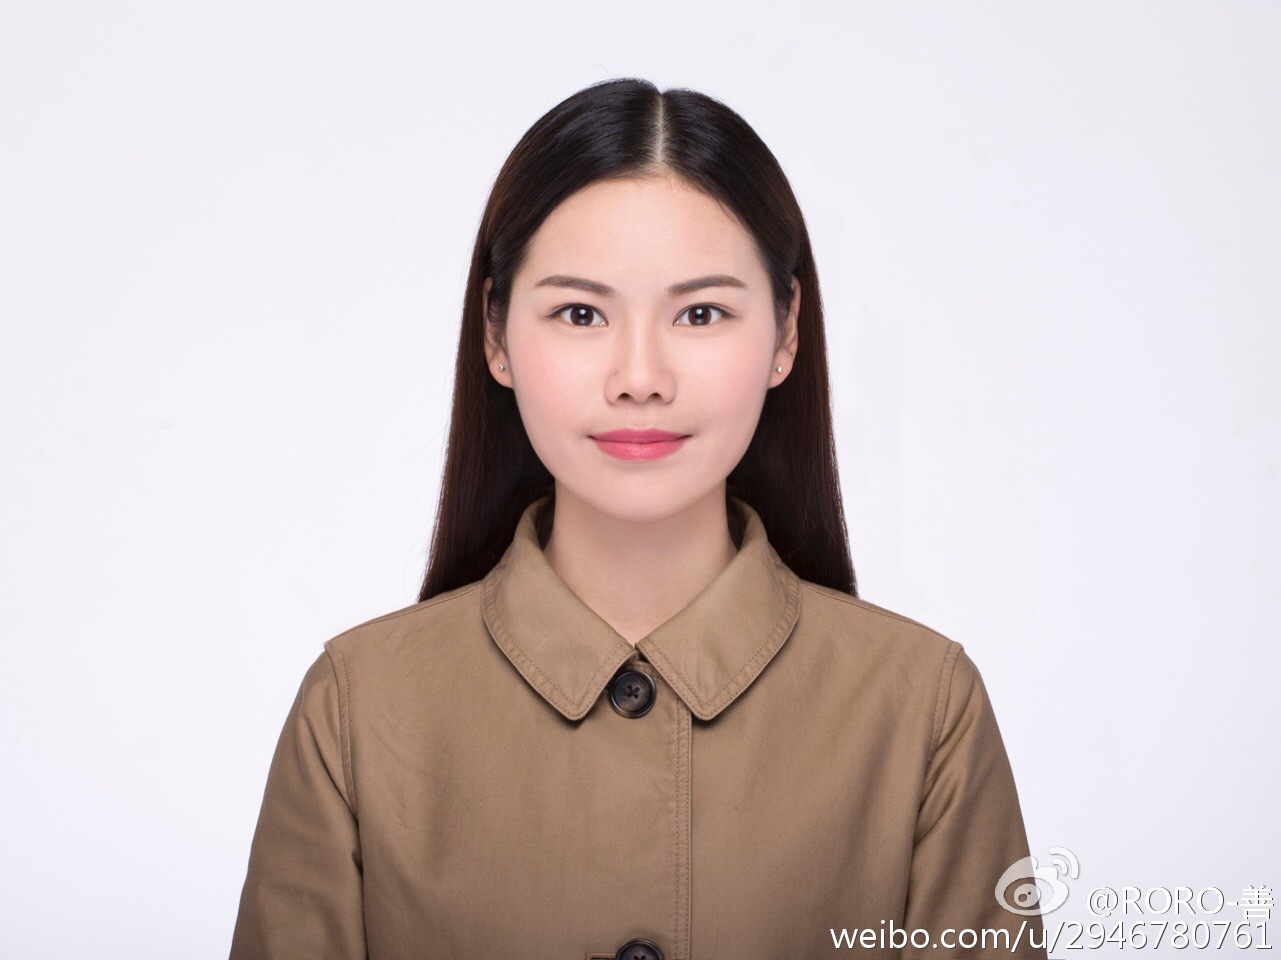unmask: (502, 200, 802, 497)
